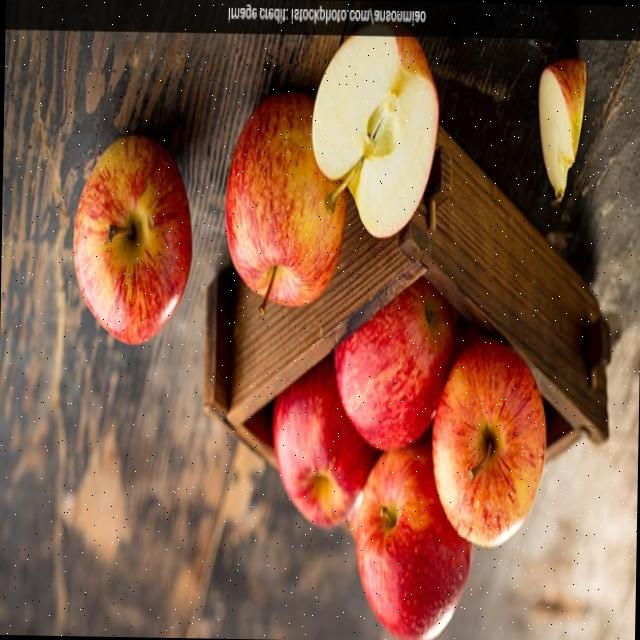Apel: (222, 90, 349, 319), (309, 25, 440, 242), (70, 132, 194, 346), (429, 337, 548, 550), (350, 443, 471, 640), (331, 274, 456, 454), (268, 356, 378, 531)
